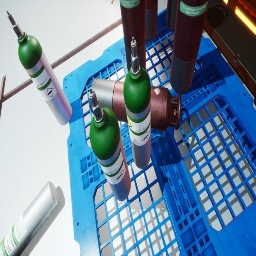0: (6, 10, 72, 126), (89, 87, 131, 201), (0, 181, 59, 256), (123, 36, 151, 169)
NitrogenTank ,: (90, 78, 181, 131), (170, 0, 210, 93), (120, 0, 146, 72), (145, 0, 158, 42), (166, 0, 178, 30)
